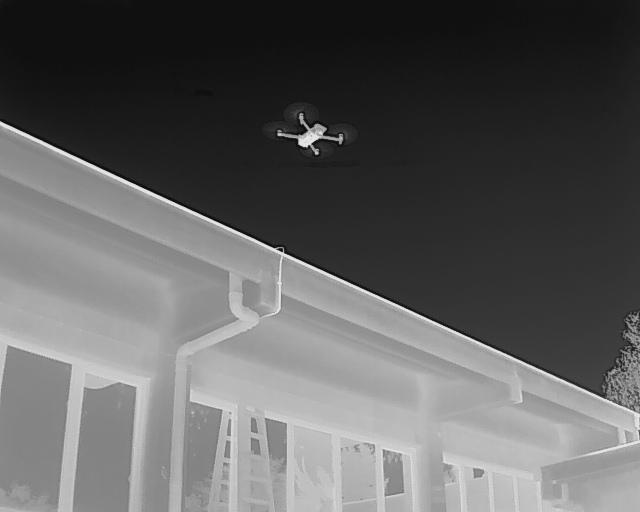drone: (268, 104, 354, 167)
